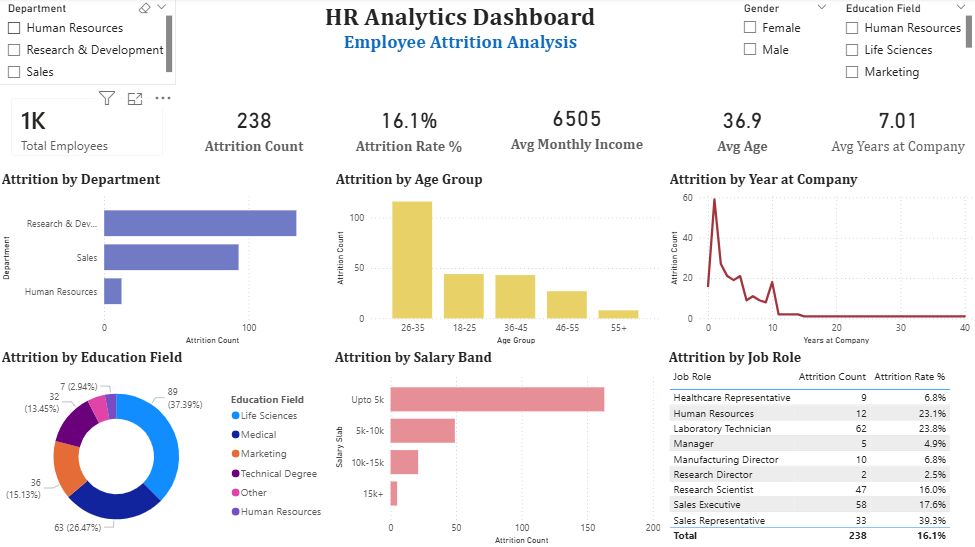

The dashboard page shown, as its layout file describes it:
{"tool":"powerbi","page":{"name":"Employee Attrition Analysis","canvas":[1280,720],"ordinal":0},"visuals":[{"type":"cardVisual","fields":{"Data":["HR_Analytics.Total Employees"]},"box":[0,113.8,233.3,110.9],"z":0},{"type":"card","fields":{"Values":["HR_Analytics.Attrition Count"]},"box":[233.3,113.8,204.5,110.9],"z":1000},{"type":"card","fields":{"Values":["HR_Analytics.Attrition Rate %"]},"box":[437.8,113.8,201.6,110.9],"z":2000},{"type":"card","fields":{"Values":["HR_Analytics.Avg Monthly Income"]},"box":[640.8,113.8,233.3,105.1],"z":3000},{"type":"card","fields":{"Values":["HR_Analytics.Avg Age"]},"box":[872.6,113.8,203,110.9],"z":4000},{"type":"card","fields":{"Values":["HR_Analytics.Avg Years @ Company"]},"box":[1075.7,113.8,204.5,110.9],"z":5000},{"type":"textbox","box":[368.6,0,472.3,85],"z":6000},{"type":"clusteredBarChart","title":"Attrition by Department","fields":{"Category":["HR_Analytics.Department"],"Y":["HR_Analytics.Attrition Count"]},"box":[0,224.6,437.8,233.3],"z":7000},{"type":"donutChart","title":"Attrition by Education Field","fields":{"Category":["HR_Analytics.EducationField"],"Y":["HR_Analytics.Attrition Count"]},"box":[0,457.9,437.8,262.1],"z":8000},{"type":"clusteredColumnChart","title":"Attrition by Age Group","fields":{"Category":["HR_Analytics.AgeGroup"],"Y":["HR_Analytics.Attrition Count"]},"box":[437.8,224.6,434.9,233.3],"z":9000},{"type":"clusteredBarChart","title":"Attrition by Salary Band","fields":{"Category":["HR_Analytics.SalarySlab"],"Y":["HR_Analytics.Attrition Count"]},"box":[436.3,457.9,436.3,262.1],"z":10000},{"type":"lineChart","title":"Attrition by Year at Company","fields":{"Y":["HR_Analytics.Attrition Count"],"Category":["HR_Analytics.YearsAtCompany"]},"box":[874.1,224.6,406.1,233.3],"z":11000},{"type":"tableEx","title":"Attrition by Job Role","fields":{"Values":["HR_Analytics.JobRole","HR_Analytics.Attrition Count","HR_Analytics.Attrition Rate %"]},"box":[872.6,457.9,407.5,262.1],"z":12000},{"type":"slicer","fields":{"Values":["HR_Analytics.Department"]},"box":[0,0,233.3,113.8],"z":13000},{"type":"slicer","fields":{"Values":["HR_Analytics.Gender"]},"box":[963.4,0,133.9,113.8],"z":14000},{"type":"slicer","fields":{"Values":["HR_Analytics.EducationField"]},"box":[1097.3,0,182.9,113.8],"z":15000}]}

Visuals, with their boxes in screenshot pixels (x1, y1, x2, y2), scaled from the page's 1280x720 canvas onto the 975x547 screenshot:
cardVisual - HR_Analytics.Total Employees: BBox(0, 86, 178, 171)
card - HR_Analytics.Attrition Count: BBox(178, 86, 333, 171)
card - HR_Analytics.Attrition Rate %: BBox(333, 86, 487, 171)
card - HR_Analytics.Avg Monthly Income: BBox(488, 86, 666, 166)
card - HR_Analytics.Avg Age: BBox(665, 86, 819, 171)
card - HR_Analytics.Avg Years @ Company: BBox(819, 86, 974, 171)
textbox: BBox(281, 0, 641, 65)
"Attrition by Department" clusteredBarChart: BBox(0, 171, 333, 348)
"Attrition by Education Field" donutChart: BBox(0, 348, 333, 546)
"Attrition by Age Group" clusteredColumnChart: BBox(333, 171, 665, 348)
"Attrition by Salary Band" clusteredBarChart: BBox(332, 348, 665, 546)
"Attrition by Year at Company" lineChart: BBox(666, 171, 974, 348)
"Attrition by Job Role" tableEx: BBox(665, 348, 974, 546)
slicer - HR_Analytics.Department: BBox(0, 0, 178, 86)
slicer - HR_Analytics.Gender: BBox(734, 0, 836, 86)
slicer - HR_Analytics.EducationField: BBox(836, 0, 974, 86)
